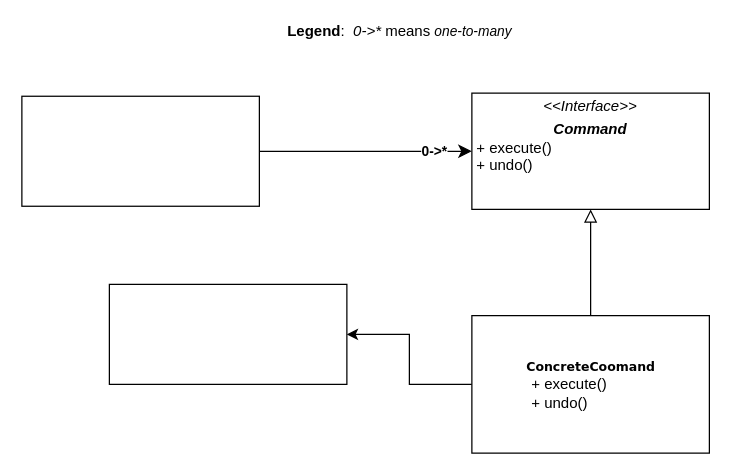
The diagram is 731 pixels wide and 475 high, and some of its shapes have lost their labels. Here are the shapes that lost their labels. From the top down, the centre of each, then its label:
point (140, 150): Invoker
point (227, 333): Receiver + action()
